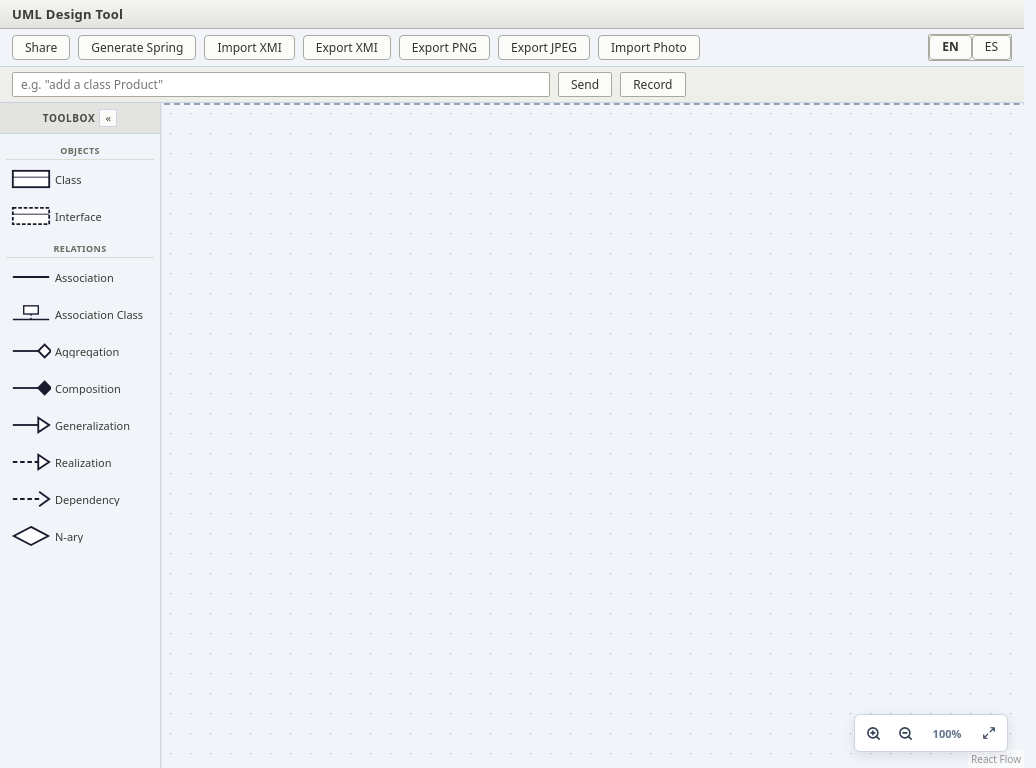
Test case: unit 13e.9 — language toggle in the app toolbar › EN/ES buttons live in the toolbar and switch shell + toolbox strings live
Check: the button with test id "palette-class" is shown, box [6, 164, 154, 197]
Check: the button with test id "lang-en" is shown, box [929, 35, 972, 60]
Click the button with test id "lang-es": (991, 47) [972, 35, 1011, 60]
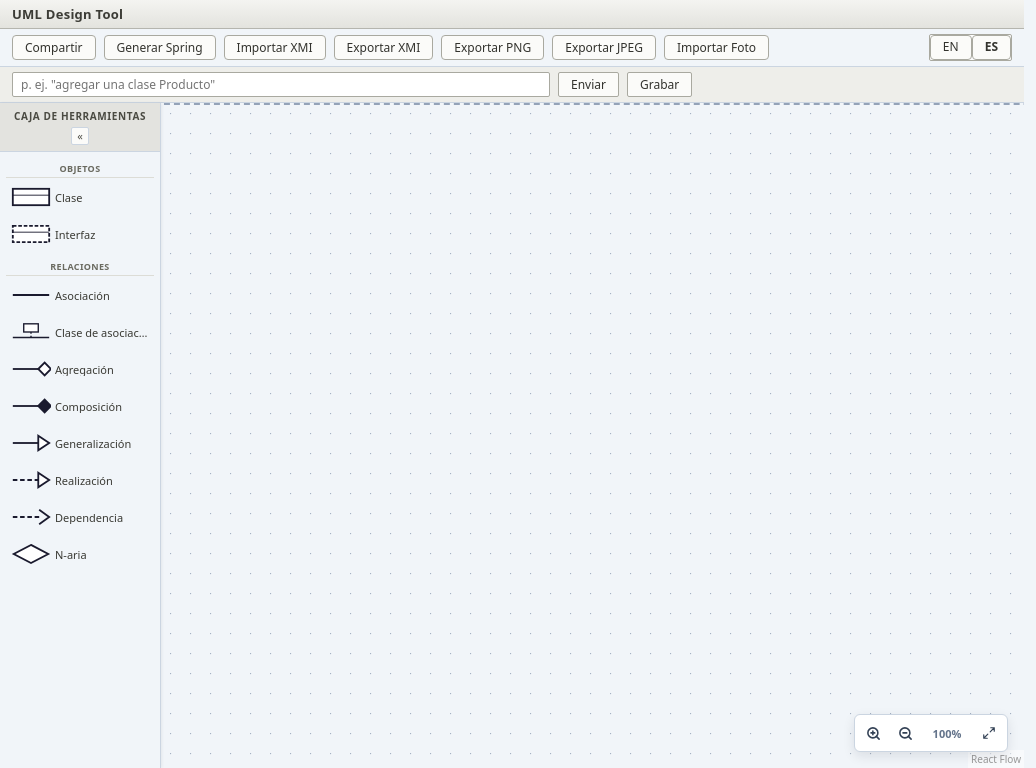
Check: the button with test id "toolbar-share" reads "Compartir", box [12, 35, 96, 60]
Check: the text "Caja de herramientas" is shown, box [14, 109, 146, 123]
Check: the text "Toolbox" is gone
Click the button with test id "lang-en": (951, 47) [930, 35, 972, 60]
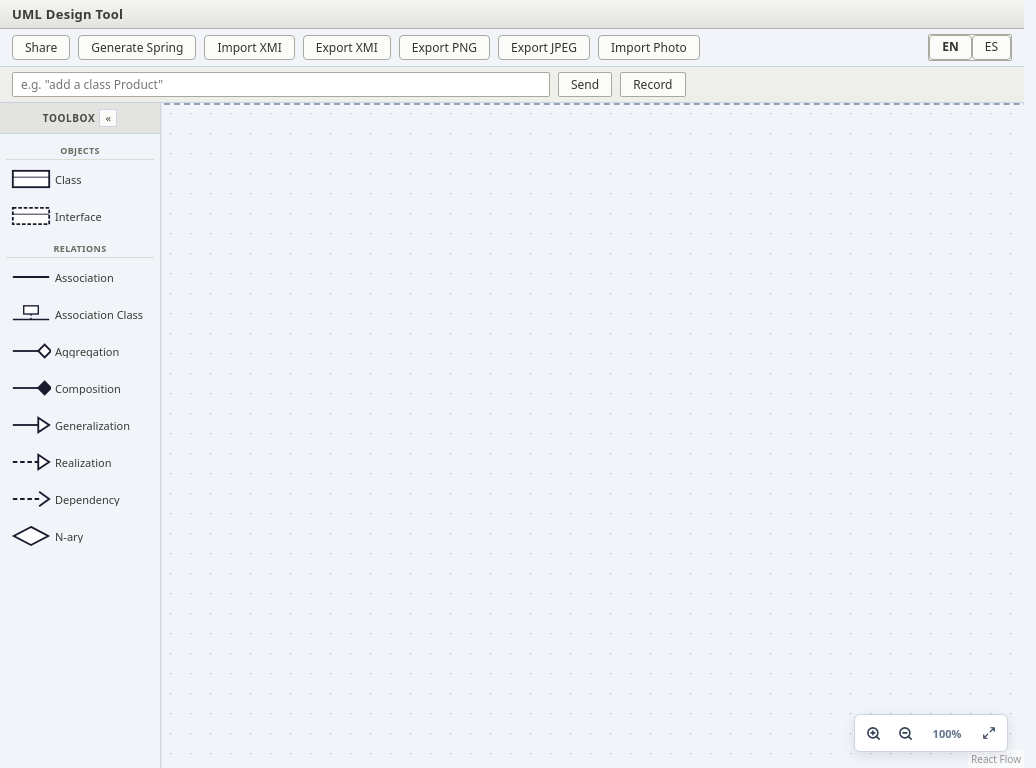
Check: the text "Toolbox" is shown, box [43, 111, 95, 125]
